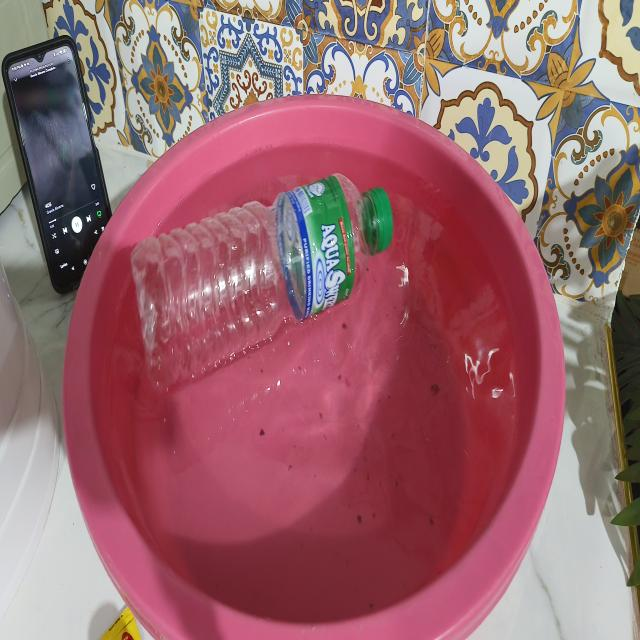Plastic Bottle: (131, 174, 393, 380)
